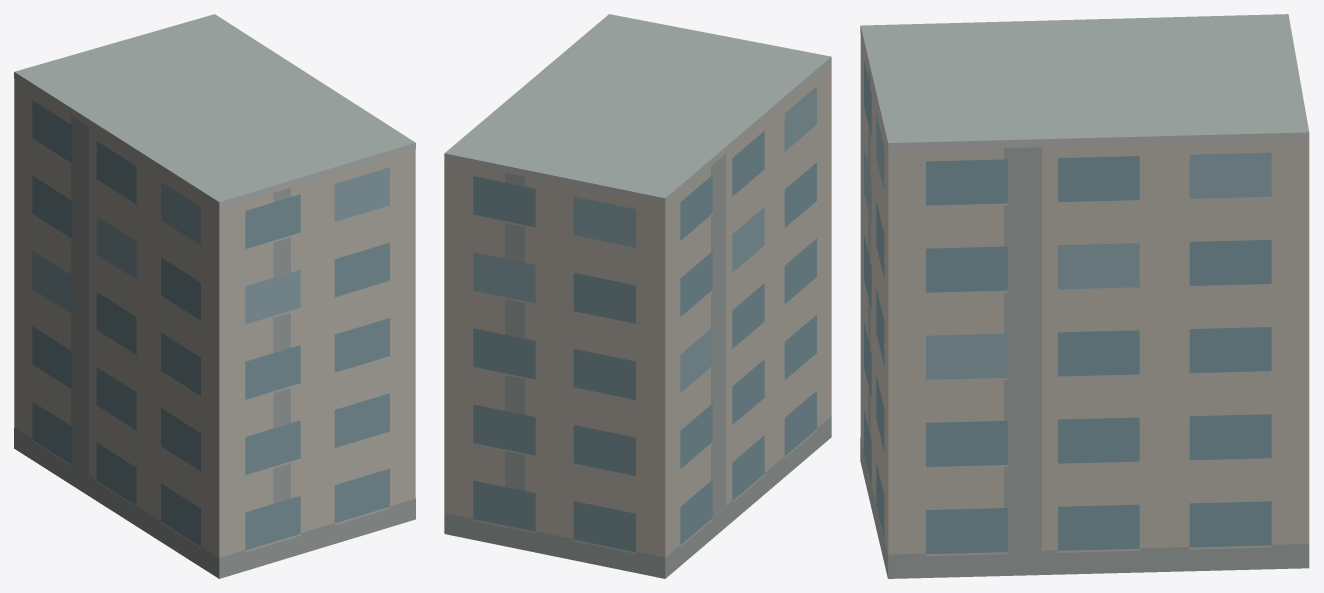
Rendered from survey-upis-32525054.glb.
The picture shows the model from 3 angles, left to right: view 1: azimuth 30°, elevation 25°; view 2: azimuth 150°, elevation 25°; view 3: azimuth 270°, elevation 25°; orthographic projection. The views are drawn at different scales.
Visible parts, largest first — view 1: survey-upis-32525054.tmp; view 2: survey-upis-32525054.tmp; view 3: survey-upis-32525054.tmp.
Part boxes in pixels (<box>): survey-upis-32525054.tmp: <box>14,14,415,578</box>; survey-upis-32525054.tmp: <box>444,14,831,578</box>; survey-upis-32525054.tmp: <box>860,14,1309,578</box>.
Size of the model in its own units: 8.43 by 13.25 by 12.38.
